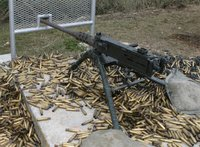rifle: (37, 13, 170, 130)
